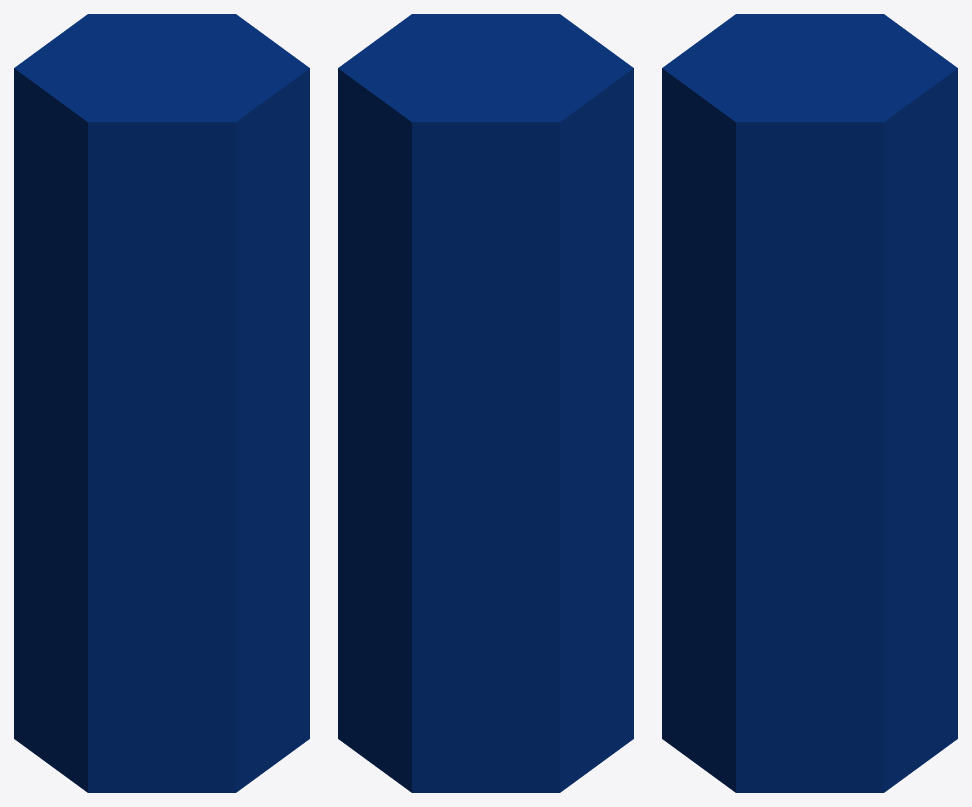
3 views of the same model, side by side, from view 1: azimuth 30°, elevation 25°; view 2: azimuth 150°, elevation 25°; view 3: azimuth 270°, elevation 25° (orthographic).
Visible parts, largest first — view 1: 湖泊; view 2: 湖泊; view 3: 湖泊.
Boxes of the visible parts, x1,y1,x2,y2 form: 湖泊: (14, 14, 309, 792); 湖泊: (338, 14, 633, 792); 湖泊: (662, 14, 957, 792).
Bounding box in the file's own units: 400 × 346 × 1000.
